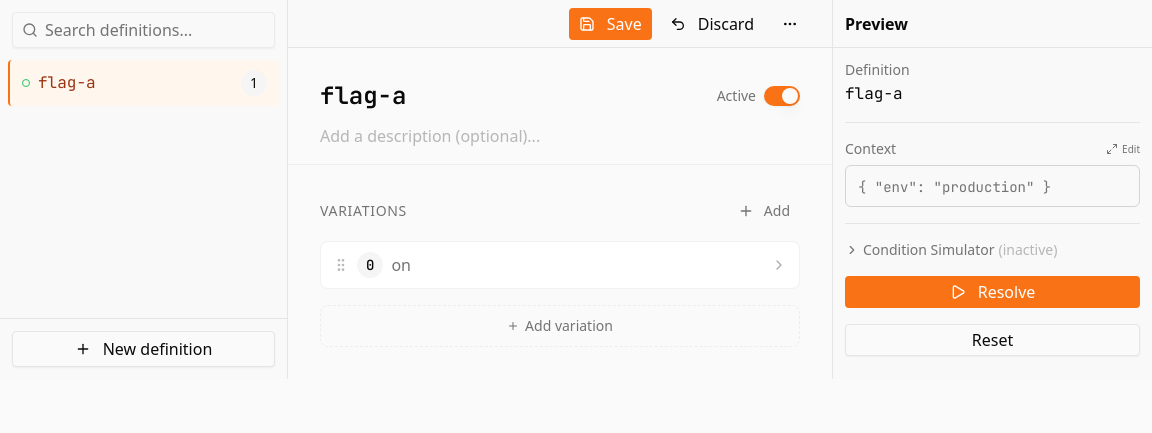
Scenario: Configurator async action handling › shows an error banner when a store action rejects
The image size is (1152, 433).
Click the button "Save": click(610, 24) top-left (569, 8), bottom-right (652, 40)
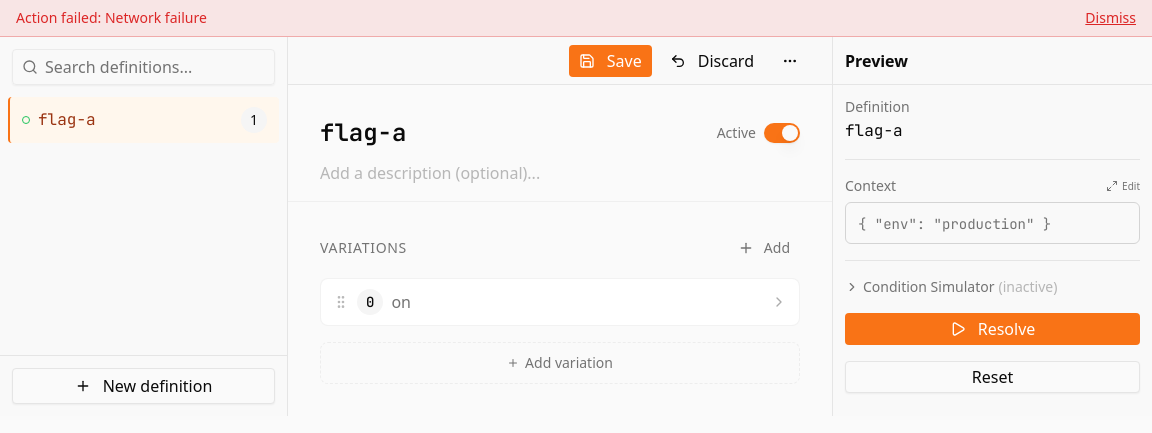
Check: the message "Action failed: Network failure Dismiss" is shown, box top-left (0, 0), bottom-right (1151, 37)
Check: the text "Action failed: Network failure" is shown, box top-left (16, 8), bottom-right (207, 28)
# Dismiss the error
Click the button "Dismiss": click(1111, 18) top-left (1085, 8), bottom-right (1136, 28)
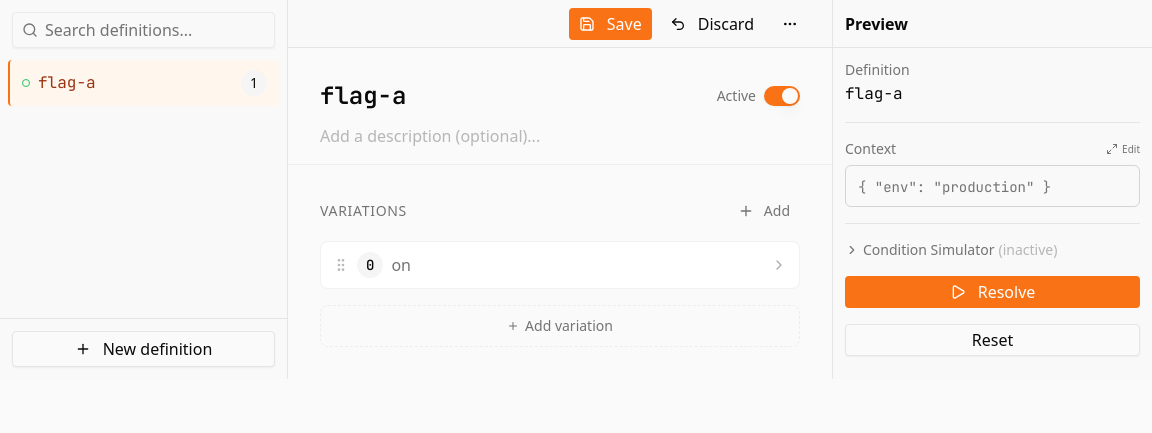
Check: the message "Action failed: Network failure Dismiss" is gone
